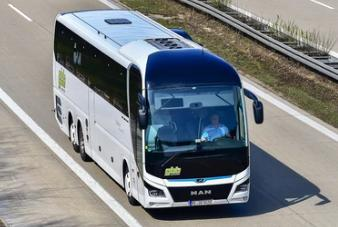vehicle: (53, 9, 263, 208)
